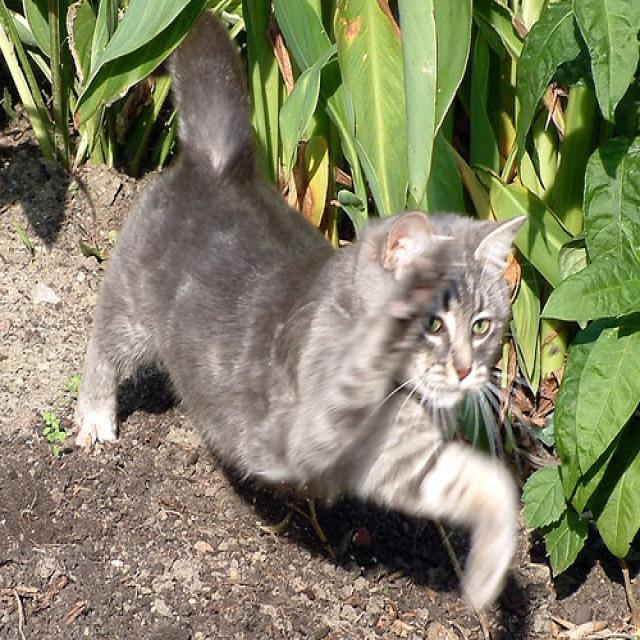left eye: (468, 314, 492, 338)
